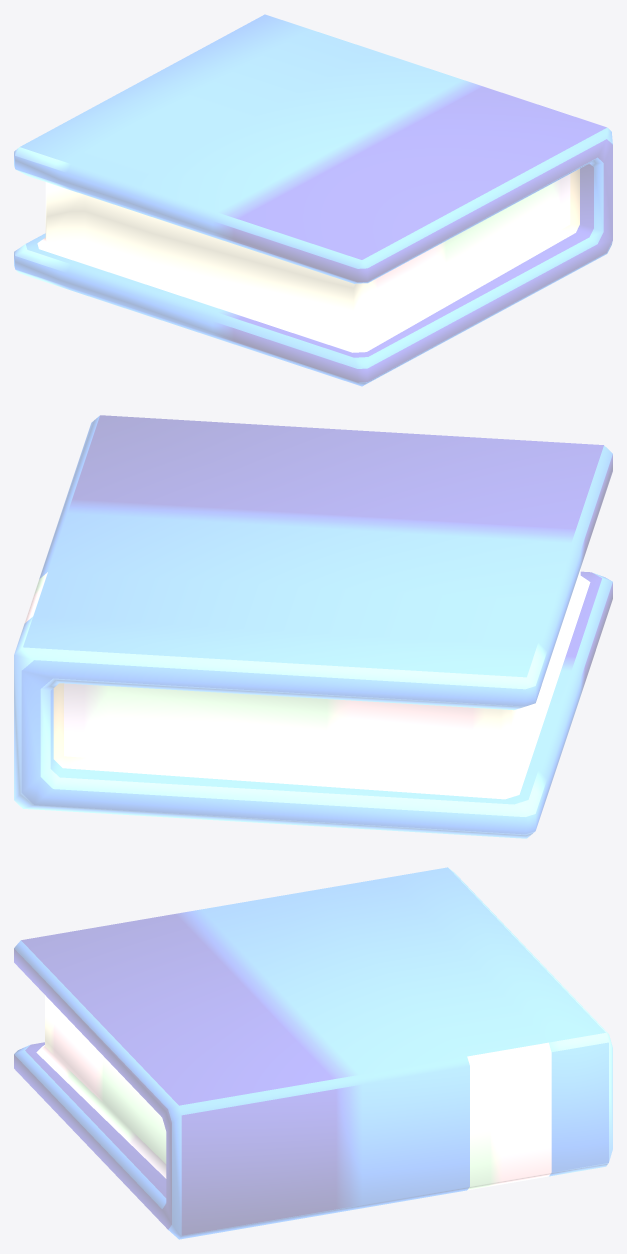
The model's file is book2.gltf.
3 renders of one model, top to bottom at view 1: azimuth 30°, elevation 25°; view 2: azimuth 150°, elevation 25°; view 3: azimuth 270°, elevation 25°, orthographic. The views are drawn at different scales.
Parts seen in each view (by area): view 1: book2; view 2: book2; view 3: book2.
Boxes of the visible parts, x1,y1,x2,y2 form: book2: (14, 14, 612, 386); book2: (14, 415, 612, 838); book2: (14, 867, 612, 1239).
Bounding box in the file's own units: 0.2601 × 0.0665 × 0.2696.
Materials: 1 (1 with a texture image).
